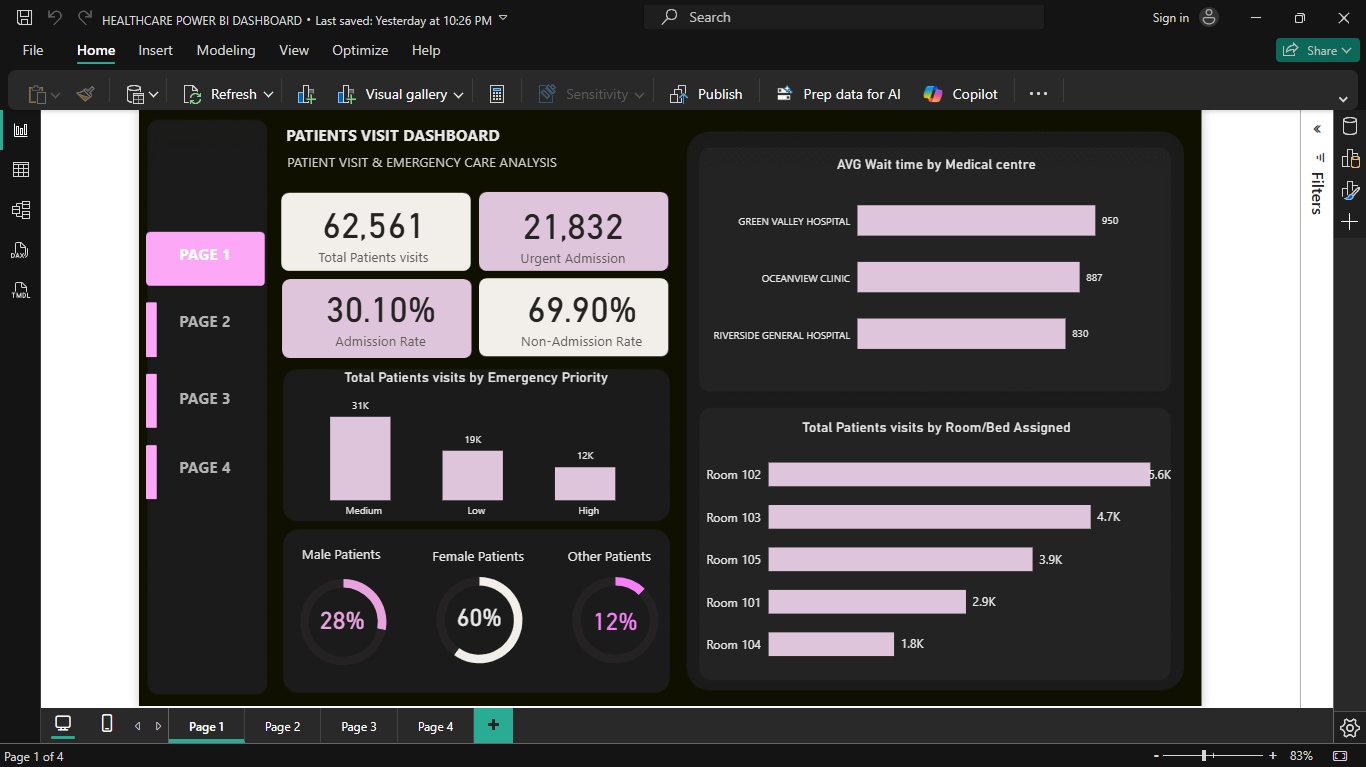

The dashboard page shown, as its layout file describes it:
{"tool":"powerbi","page":{"name":"Page 1","canvas":[1280,720],"ordinal":0},"visuals":[{"type":"card","fields":{"Values":["DAX House.Admission Rate"]},"box":[171.3,194,240,105.5],"z":0},{"type":"card","fields":{"Values":["DAX House.Urgent Admission"]},"box":[402.6,94,241,104.3],"z":1000},{"type":"card","fields":{"Values":["DAX House.Non-Admission Rate"]},"box":[412.6,194,240,106],"z":2000},{"type":"card","fields":{"Values":["DAX House.TOTAL Patients visits"]},"box":[163.1,92.6,239.5,105.8],"z":3000},{"type":"clusteredColumnChart","fields":{"Y":["DAX House.TOTAL Patients visits"],"Category":["Patient Data.Emergency Priority"]},"box":[170.4,311.5,470.2,188.1],"z":4000},{"type":"clusteredBarChart","fields":{"Category":["Patient Data.Room/Bed Assigned"],"Y":["DAX House.TOTAL Patients visits"]},"box":[673,371.8,574.5,313],"z":5000},{"type":"clusteredBarChart","fields":{"Category":["Medical centre.Medical centre"],"Y":["DAX House.AVG Wait time"]},"box":[673,55.8,574.5,268.9],"z":6000},{"type":"textbox","box":[171.9,11.8,470.2,39.7],"z":7000},{"type":"donutChart","fields":{"Y":["DAX House.% Female","DAX House.% R Female"]},"box":[170.5,547.1,150,140],"z":8000},{"type":"donutChart","fields":{"Y":["DAX House.% Other","DAX House.% R Other"]},"box":[498.8,544.2,150,140],"z":9000},{"type":"donutChart","fields":{"Y":["DAX House.% Male","DAX House.% R Male"]},"box":[334.7,544.2,150,140],"z":10000},{"type":"card","fields":{"Values":["DAX House.% Female"]},"box":[204.2,576,79.3,74.9],"z":11000},{"type":"card","fields":{"Values":["DAX House.% Male"]},"box":[370.1,571.6,79.1,74.6],"z":12000},{"type":"card","fields":{"Values":["DAX House.% Other"]},"box":[533.2,576.5,79.1,74.6],"z":13000},{"type":"textbox","box":[170.1,518.8,147.8,38.8],"z":14000},{"type":"textbox","box":[334.7,520.8,147.8,38.8],"z":15000},{"type":"textbox","box":[492.9,520.8,147.8,38.8],"z":16000},{"type":"actionButton","box":[19.1,148.4,120.5,50],"z":17000},{"type":"actionButton","box":[19.1,229.2,120.5,50],"z":18000},{"type":"actionButton","box":[19.1,404.1,120.5,50],"z":19000},{"type":"actionButton","box":[19.1,321.8,120.5,50],"z":20000},{"type":"textbox","box":[173.4,47,470.2,39.7],"z":21000}]}

Visuals, with their boxes on the page's 1280x720 design canvas (x1, y1, x2, y2). These are canvas units, not pixel positions in the 1366x767 screenshot, which may show the page scaled, cropped or inside an application window:
card - DAX House.Admission Rate: rect(171, 194, 411, 300)
card - DAX House.Urgent Admission: rect(403, 94, 644, 198)
card - DAX House.Non-Admission Rate: rect(413, 194, 653, 300)
card - DAX House.TOTAL Patients visits: rect(163, 93, 403, 198)
clusteredColumnChart - DAX House.TOTAL Patients visits x Patient Data.Emergency Priority: rect(170, 312, 641, 500)
clusteredBarChart - Patient Data.Room/Bed Assigned x DAX House.TOTAL Patients visits: rect(673, 372, 1248, 685)
clusteredBarChart - Medical centre.Medical centre x DAX House.AVG Wait time: rect(673, 56, 1248, 325)
textbox: rect(172, 12, 642, 52)
donutChart - DAX House.% Female x DAX House.% R Female: rect(170, 547, 320, 687)
donutChart - DAX House.% Other x DAX House.% R Other: rect(499, 544, 649, 684)
donutChart - DAX House.% Male x DAX House.% R Male: rect(335, 544, 485, 684)
card - DAX House.% Female: rect(204, 576, 284, 651)
card - DAX House.% Male: rect(370, 572, 449, 646)
card - DAX House.% Other: rect(533, 576, 612, 651)
textbox: rect(170, 519, 318, 558)
textbox: rect(335, 521, 482, 560)
textbox: rect(493, 521, 641, 560)
actionButton: rect(19, 148, 140, 198)
actionButton: rect(19, 229, 140, 279)
actionButton: rect(19, 404, 140, 454)
actionButton: rect(19, 322, 140, 372)
textbox: rect(173, 47, 644, 87)
